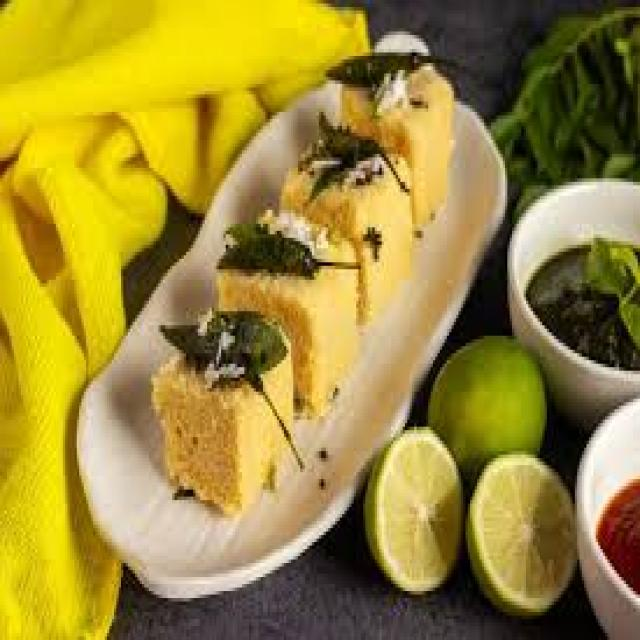DHOKLA: (77, 84, 503, 595), (151, 315, 291, 511)
